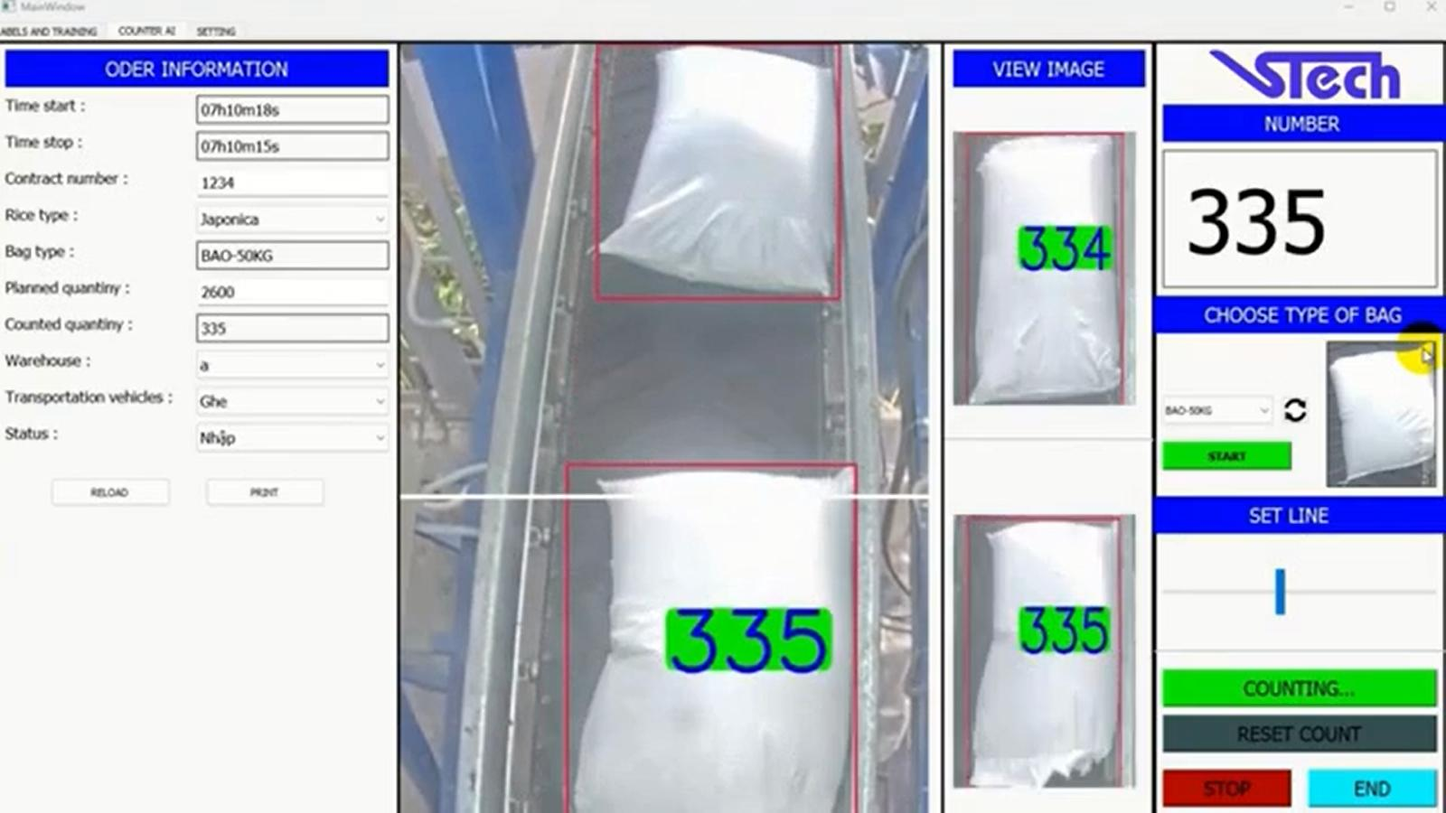rice-bag: (571, 471, 853, 812), (596, 45, 841, 297), (957, 136, 1121, 403), (968, 521, 1118, 787)
